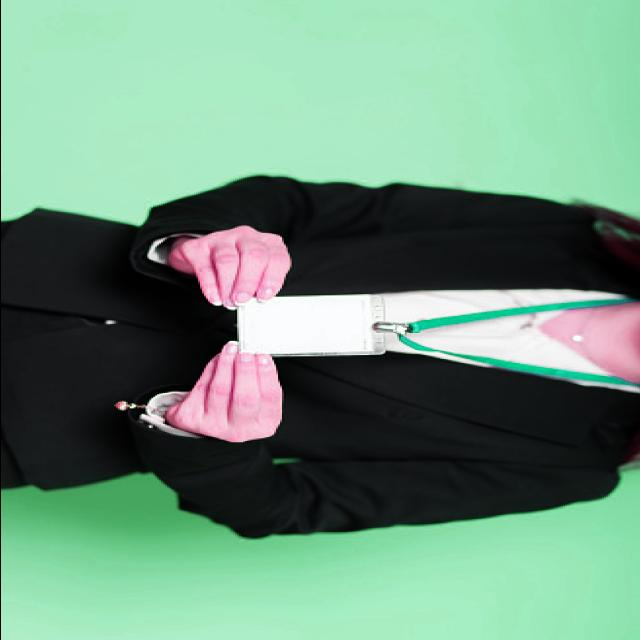ID_card: (234, 293, 388, 357)
